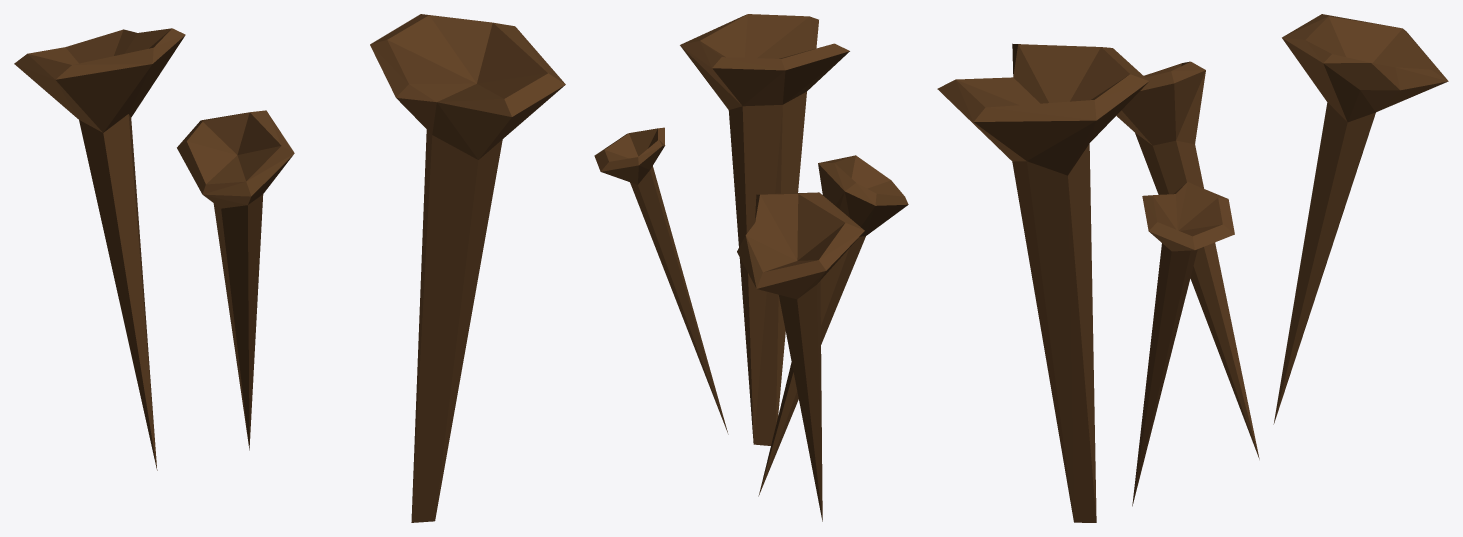
File: SM_Mushroom_Chanterelle_Mature_A.fbx
3 views of the same model, side by side, from view 1: azimuth 30°, elevation 25°; view 2: azimuth 150°, elevation 25°; view 3: azimuth 270°, elevation 25° (orthographic). The views are drawn at different scales.
Visible parts, largest first — view 1: mushroom-chanterelle-mature-a; view 2: mushroom-chanterelle-mature-a; view 3: mushroom-chanterelle-mature-a.
Boxes of the visible parts, x1,y1,x2,y2 form: mushroom-chanterelle-mature-a: (14,14,565,522); mushroom-chanterelle-mature-a: (594,14,908,521); mushroom-chanterelle-mature-a: (937,14,1448,522).
Bounding box in the file's own units: 0.2788 × 0.3244 × 0.3262.
